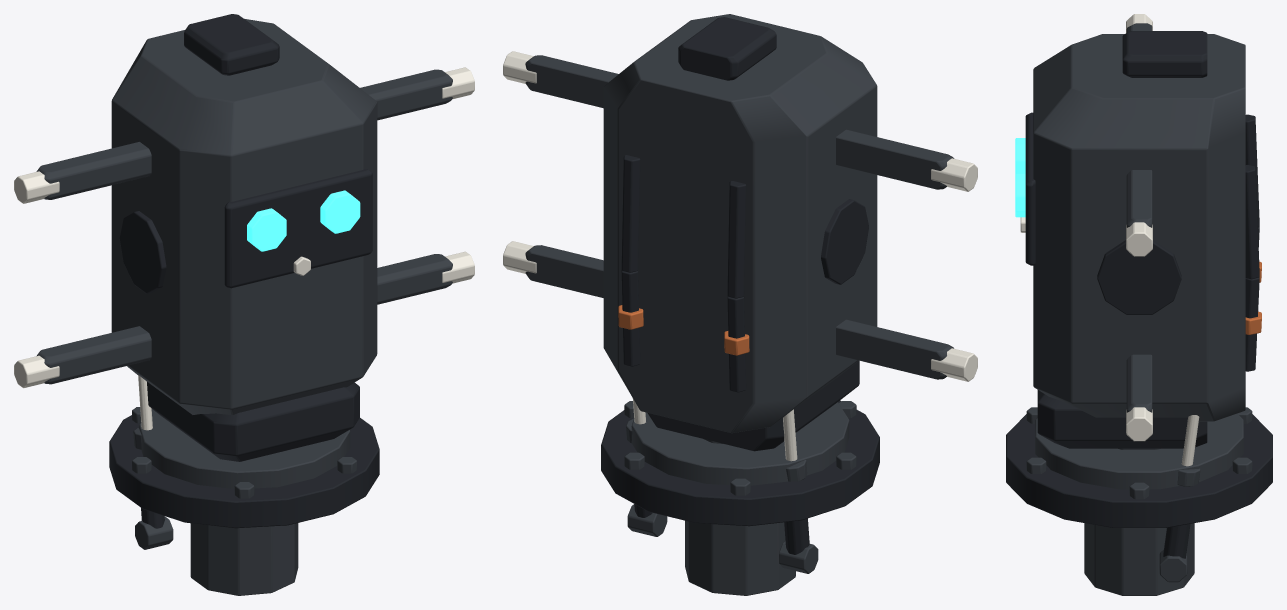
The model's file is Skel_Head.fbx.
3 views of the same model, side by side, from view 1: azimuth 30°, elevation 25°; view 2: azimuth 150°, elevation 25°; view 3: azimuth 270°, elevation 25° (orthographic). The views are drawn at different scales.
Visible parts, largest first — view 1: Skel_Head; view 2: Skel_Head; view 3: Skel_Head.
Part boxes in pixels (x1,y1,x2,y2): Skel_Head: (14,14,474,595); Skel_Head: (503,14,977,595); Skel_Head: (1006,14,1272,595).
Bounding box in the file's own units: 0.611 × 0.69 × 0.3139.
